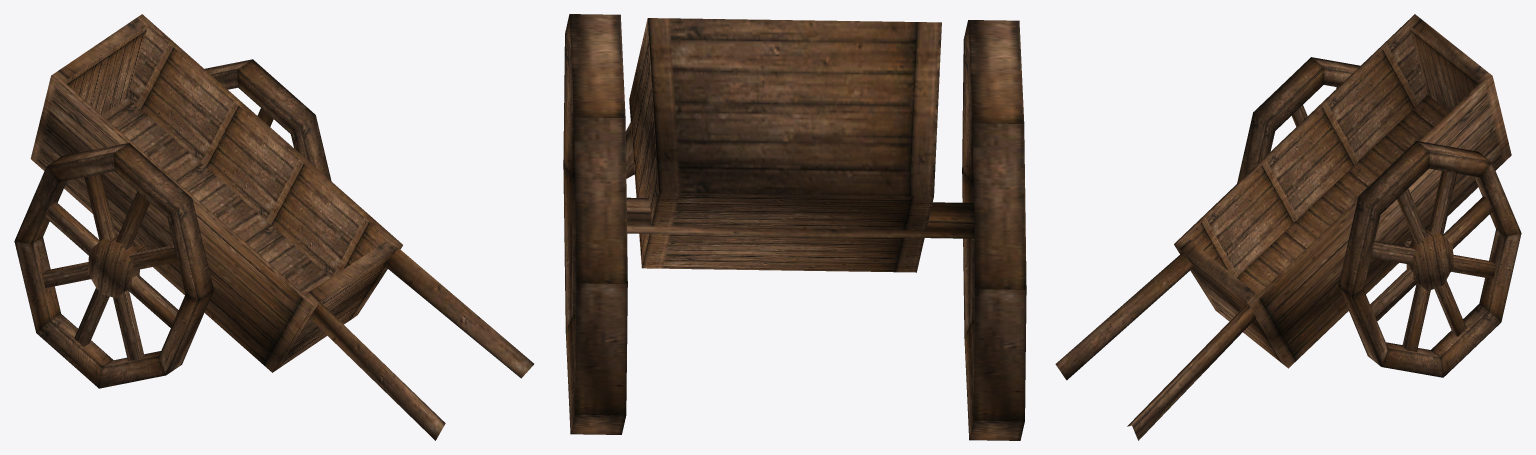
File: cj_ferry_wagon.glb
3 renders of one model, left to right at view 1: azimuth 30°, elevation 25°; view 2: azimuth 150°, elevation 25°; view 3: azimuth 270°, elevation 25°, orthographic. The views are drawn at different scales.
Parts seen in each view (by area): view 1: CJ_ferry_wagon; view 2: CJ_ferry_wagon; view 3: CJ_ferry_wagon.
Boxes of the visible parts, x1,y1,x2,y2 form: CJ_ferry_wagon: (14, 14, 533, 440); CJ_ferry_wagon: (563, 14, 1026, 440); CJ_ferry_wagon: (1055, 14, 1521, 440).
Size of the model in its own units: 3.13 by 2.21 by 3.45.
1 material, 1 textured.
